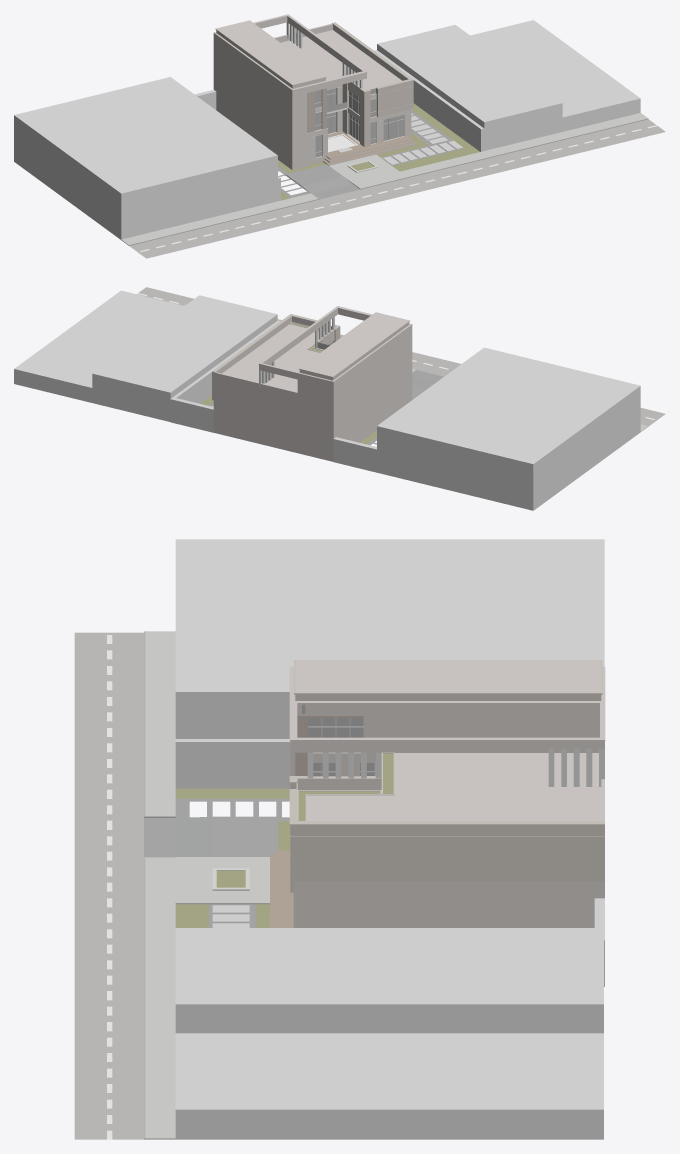
The model's file is villa.glb.
The picture shows the model from 3 angles, top to bottom: view 1: azimuth 30°, elevation 25°; view 2: azimuth 150°, elevation 25°; view 3: azimuth 270°, elevation 25°; orthographic projection. The views are drawn at different scales.
Visible parts, largest first — view 1: imagetostl_mesh1754, imagetostl_mesh1762, imagetostl_mesh1767, imagetostl_mesh1755, imagetostl_mesh1769, imagetostl_mesh981, imagetostl_mesh1720, imagetostl_mesh1712, imagetostl_mesh1457, imagetostl_mesh1197, imagetostl_mesh1770, imagetostl_mesh5 (+19 smaller); view 2: imagetostl_mesh1754, imagetostl_mesh1767, imagetostl_mesh1115, imagetostl_mesh1719, imagetostl_mesh1769, imagetostl_mesh981, imagetostl_mesh1720, imagetostl_mesh1715, imagetostl_mesh1457, imagetostl_mesh1197, imagetostl_mesh1762, imagetostl_mesh1 (+8 smaller); view 3: imagetostl_mesh1754, imagetostl_mesh1762, imagetostl_mesh1769, imagetostl_mesh1767, imagetostl_mesh1457, imagetostl_mesh1713, imagetostl_mesh1768, imagetostl_mesh1089, imagetostl_mesh1120, imagetostl_mesh1197, imagetostl_mesh1770, imagetostl_mesh1217 (+19 smaller).
Part boxes in pixels (box(x1,y1,x2,y2)): imagetostl_mesh1754: box(14, 77, 277, 193); imagetostl_mesh1762: box(129, 119, 665, 258); imagetostl_mesh1767: box(377, 24, 561, 122); imagetostl_mesh1755: box(121, 155, 277, 239); imagetostl_mesh1769: box(470, 20, 640, 117); imagetostl_mesh981: box(213, 33, 292, 169); imagetostl_mesh1720: box(14, 115, 121, 239); imagetostl_mesh1712: box(484, 98, 640, 150); imagetostl_mesh1457: box(281, 30, 401, 89); imagetostl_mesh1197: box(216, 20, 325, 84); imagetostl_mesh1770: box(353, 113, 647, 188); imagetostl_mesh5: box(413, 80, 480, 151); imagetostl_mesh1754: box(377, 347, 640, 464); imagetostl_mesh1767: box(92, 295, 277, 392); imagetostl_mesh1115: box(212, 364, 333, 461); imagetostl_mesh1719: box(377, 426, 533, 510); imagetostl_mesh1769: box(14, 290, 183, 387); imagetostl_mesh981: box(333, 325, 412, 442); imagetostl_mesh1720: box(533, 386, 640, 510); imagetostl_mesh1715: box(14, 369, 170, 421); imagetostl_mesh1457: box(222, 324, 324, 391); imagetostl_mesh1197: box(300, 312, 408, 376); imagetostl_mesh1762: box(137, 287, 665, 425); imagetostl_mesh1: box(170, 399, 213, 432); imagetostl_mesh1754: box(175, 539, 604, 691); imagetostl_mesh1762: box(74, 632, 143, 1139); imagetostl_mesh1769: box(175, 1033, 603, 1109); imagetostl_mesh1767: box(175, 928, 603, 1004); imagetostl_mesh1457: box(307, 753, 601, 820); imagetostl_mesh1713: box(175, 1109, 603, 1139); imagetostl_mesh1768: box(175, 1004, 603, 1033); imagetostl_mesh1089: box(293, 889, 604, 927); imagetostl_mesh1120: box(290, 836, 604, 870); imagetostl_mesh1197: box(295, 660, 601, 692); imagetostl_mesh1770: box(145, 857, 175, 1138); imagetostl_mesh1217: box(313, 716, 599, 775).
Bounding box in the file's own units: 3927 × 610 × 1737.
